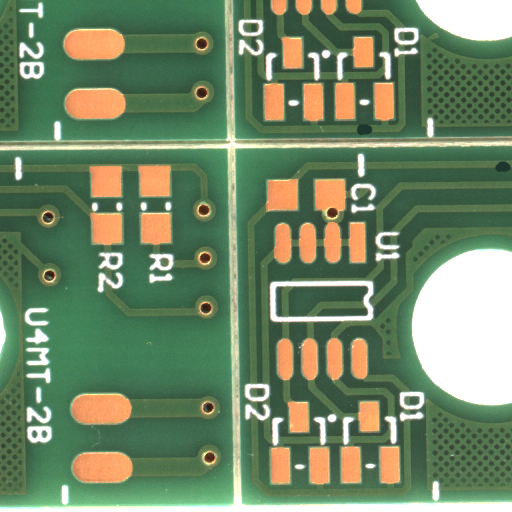Mouse_bite: (364, 129, 381, 142), (503, 166, 512, 179)
